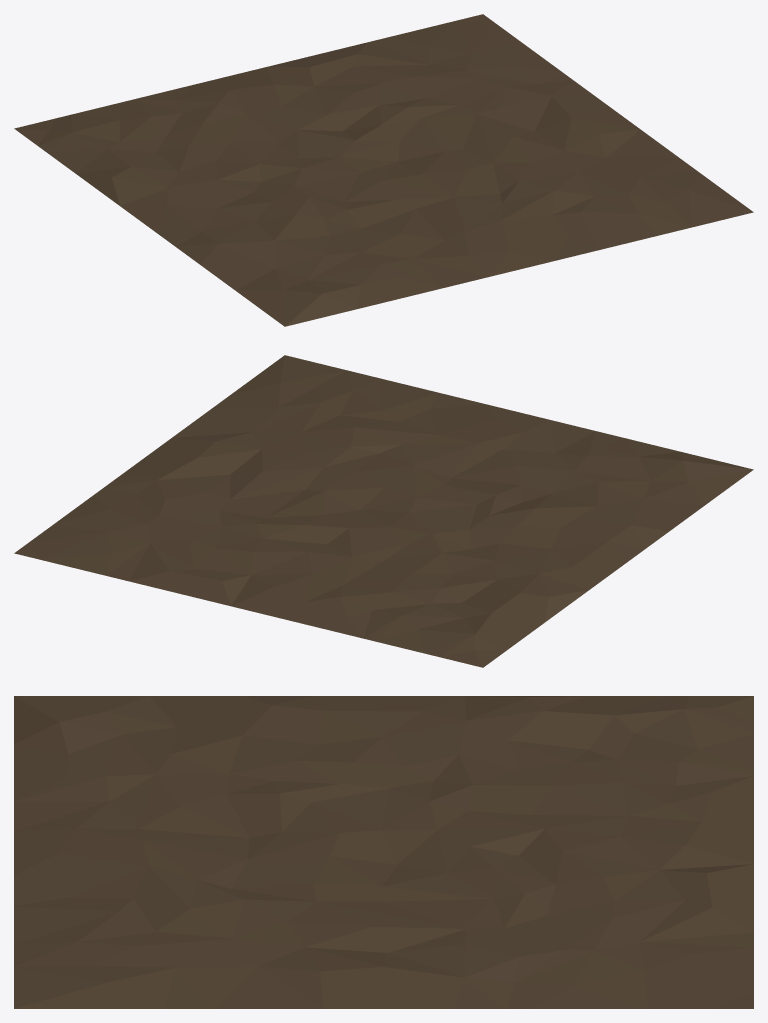
The model's file is SM_Envr_Nature_Farm_Field_01.fbx.
The picture shows the model from 3 angles, top to bottom: view 1: azimuth 30°, elevation 25°; view 2: azimuth 150°, elevation 25°; view 3: azimuth 270°, elevation 25°; orthographic projection. The views are drawn at different scales.
Parts seen in each view (by area): view 1: SM_Envr_Nature_Farm_Field_01; view 2: SM_Envr_Nature_Farm_Field_01; view 3: SM_Envr_Nature_Farm_Field_01.
Boxes of the visible parts, x1,y1,x2,y2 form: SM_Envr_Nature_Farm_Field_01: (14,14,753,326); SM_Envr_Nature_Farm_Field_01: (14,355,753,667); SM_Envr_Nature_Farm_Field_01: (14,696,753,1008).
Bounding box in the file's own units: 500 × 9.03 × 500.
